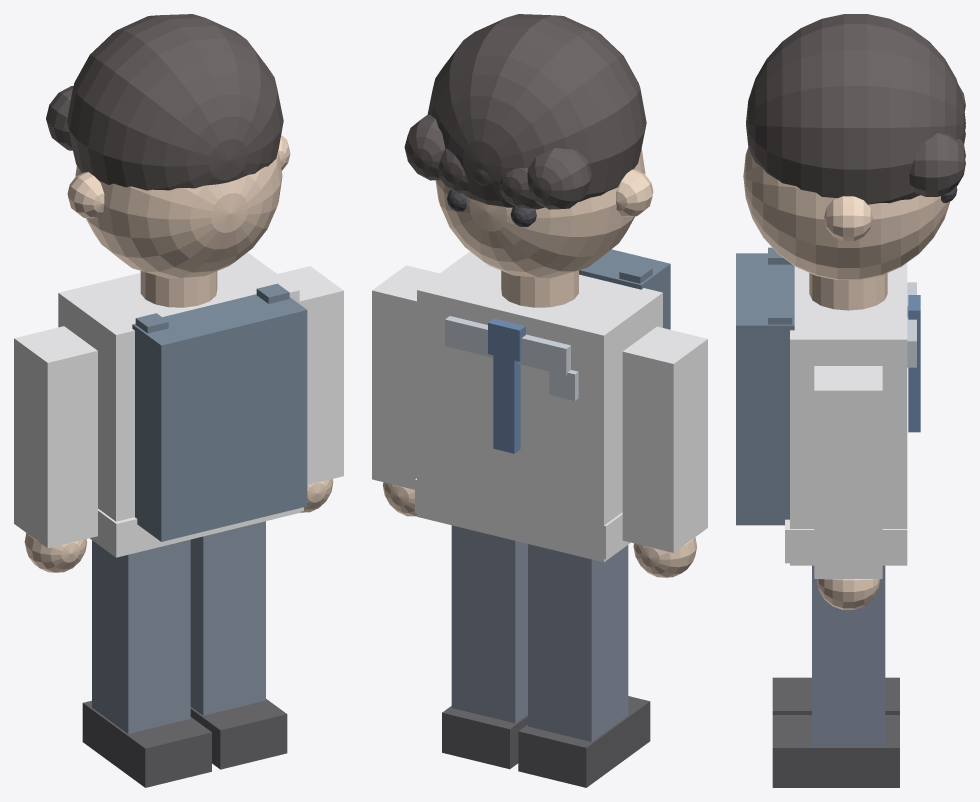
Rendered from Map58_PlayerCharacter.glb.
3 views of the same model, side by side, from view 1: azimuth 30°, elevation 25°; view 2: azimuth 150°, elevation 25°; view 3: azimuth 270°, elevation 25° (orthographic).
Parts seen in each view (by area): view 1: Backpack, Hair_Cap, Leg_L, Arm_L, Head, Torso, Leg_R, Arm_R, Shoe_L, Shoe_R, Shirt_Hem, Neck (+4 smaller); view 2: Torso, Hair_Cap, Leg_L, Arm_L, Leg_R, Head, Arm_R, Shoe_L, Shoe_R, Fringe_0, Tie, Backpack (+12 smaller); view 3: Hair_Cap, Torso, Arm_R, Backpack, Head, Leg_R, Shoe_R, Fringe_4, Neck, Shoe_L, Shirt_Hem, Ear_R (+4 smaller).
Boxes of the visible parts, box(x1,y1,x2,y2) form: Backpack: box(132, 294, 307, 541); Hair_Cap: box(67, 14, 283, 190); Leg_L: box(92, 539, 190, 733); Arm_L: box(14, 326, 97, 548); Head: box(75, 150, 282, 278); Torso: box(58, 252, 299, 557); Leg_R: box(190, 521, 265, 715); Arm_R: box(278, 266, 343, 484); Shoe_L: box(82, 700, 211, 787); Shoe_R: box(190, 699, 287, 769); Shirt_Hem: box(91, 507, 303, 556); Neck: box(140, 271, 217, 307); Torso: box(417, 251, 662, 562); Hair_Cap: box(427, 14, 646, 209); Leg_L: box(528, 544, 628, 741); Arm_L: box(622, 326, 707, 552); Leg_R: box(451, 525, 527, 723); Head: box(435, 149, 645, 278); Arm_R: box(372, 265, 439, 489); Shoe_L: box(518, 696, 650, 787); Shoe_R: box(442, 706, 527, 769); Fringe_0: box(527, 148, 591, 209); Tie: box(493, 338, 520, 453); Backpack: box(579, 249, 670, 329); Hair_Cap: box(746, 14, 965, 204); Torso: box(790, 263, 907, 565); Arm_R: box(814, 366, 882, 578); Backpack: box(736, 253, 794, 525); Head: box(743, 147, 950, 280); Leg_R: box(812, 565, 885, 746); Shoe_R: box(772, 715, 899, 787); Fringe_4: box(909, 133, 965, 196); Neck: box(809, 273, 887, 310); Shoe_L: box(772, 677, 899, 714); Shirt_Hem: box(785, 519, 907, 563); Ear_R: box(824, 196, 872, 241).
Bounding box in the file's own units: 0.7898 × 1.81 × 0.517.
